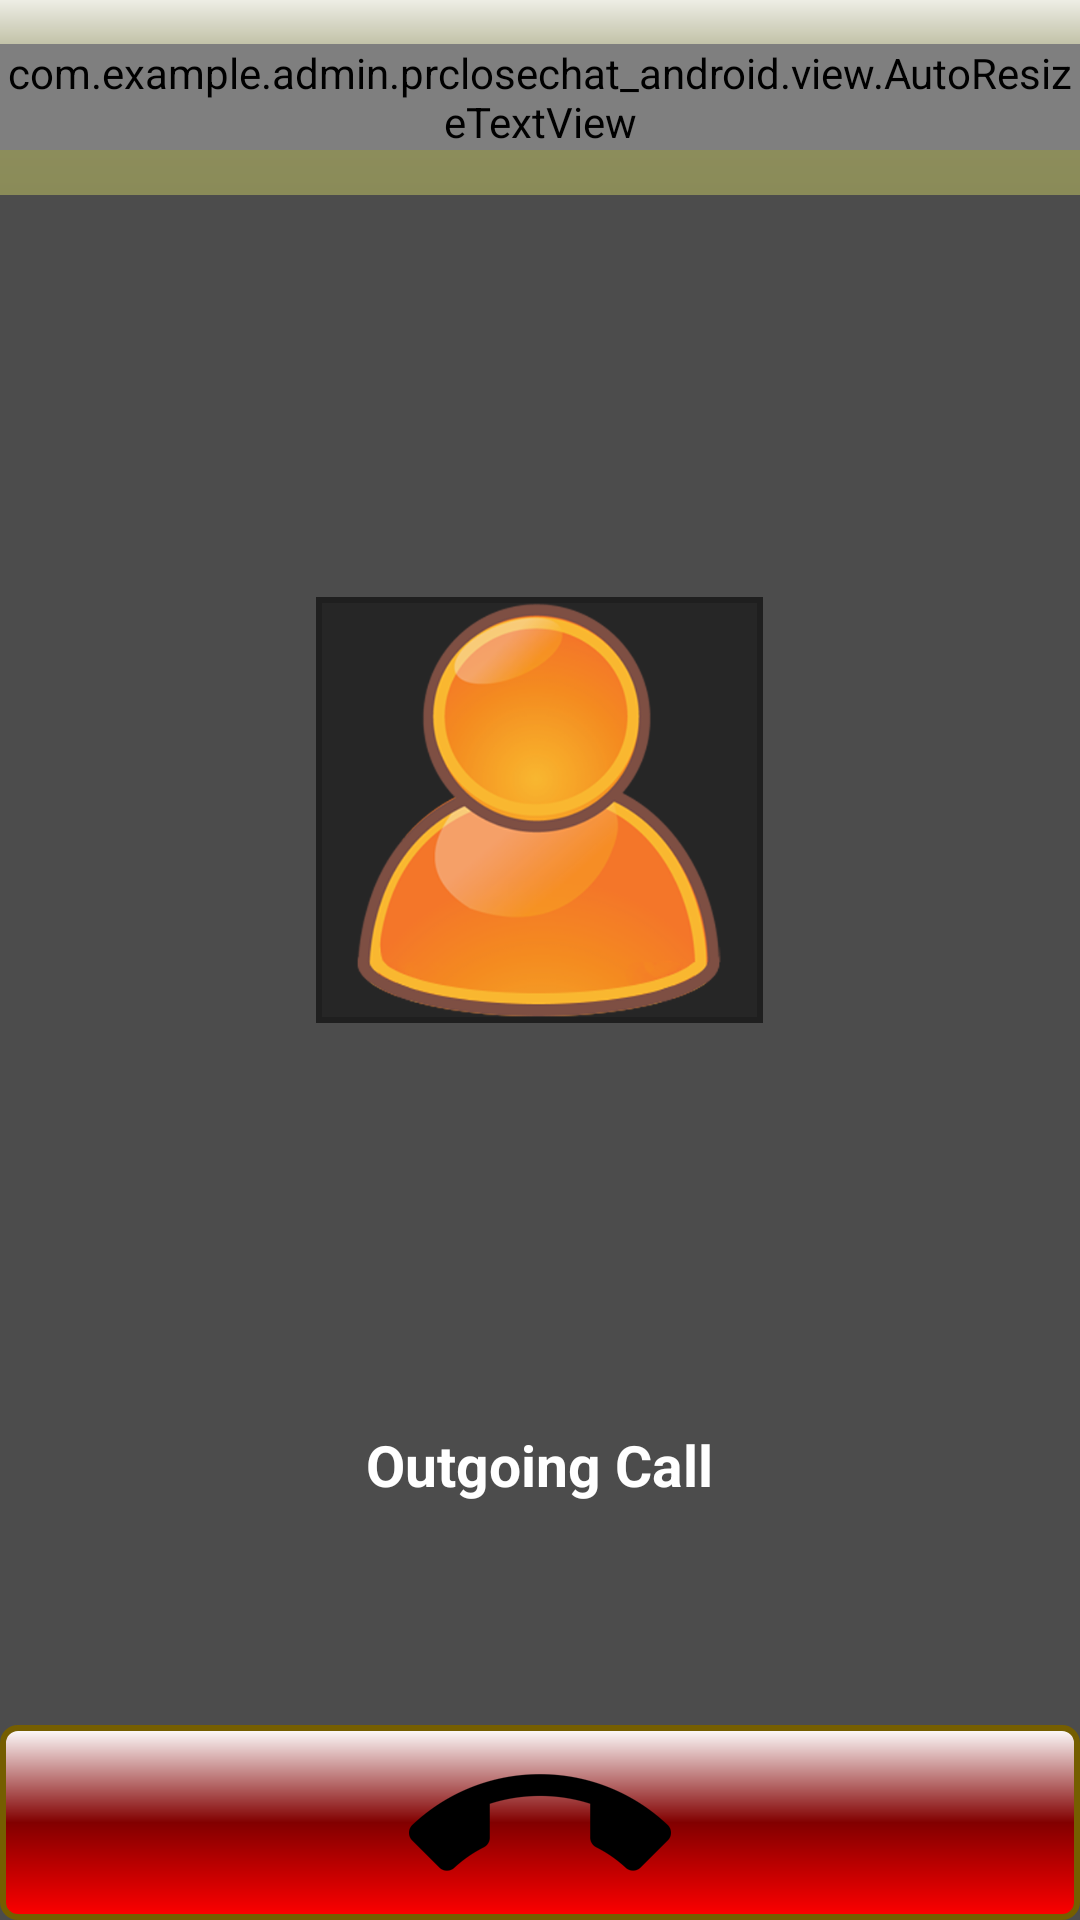

Where to tap for icons on this 1080 x 1920 app screen, as point (x, y):
call: point (539, 1822)
